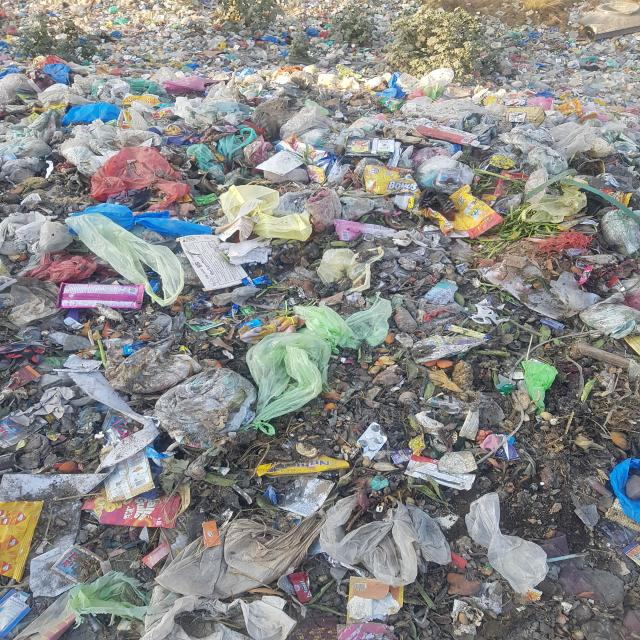electronic: (93, 429, 174, 502), (0, 495, 56, 598), (46, 269, 157, 311), (176, 233, 250, 292), (425, 187, 504, 240)
general: (230, 301, 379, 420), (315, 483, 461, 581), (464, 487, 577, 613), (214, 500, 328, 590), (86, 136, 198, 207)
